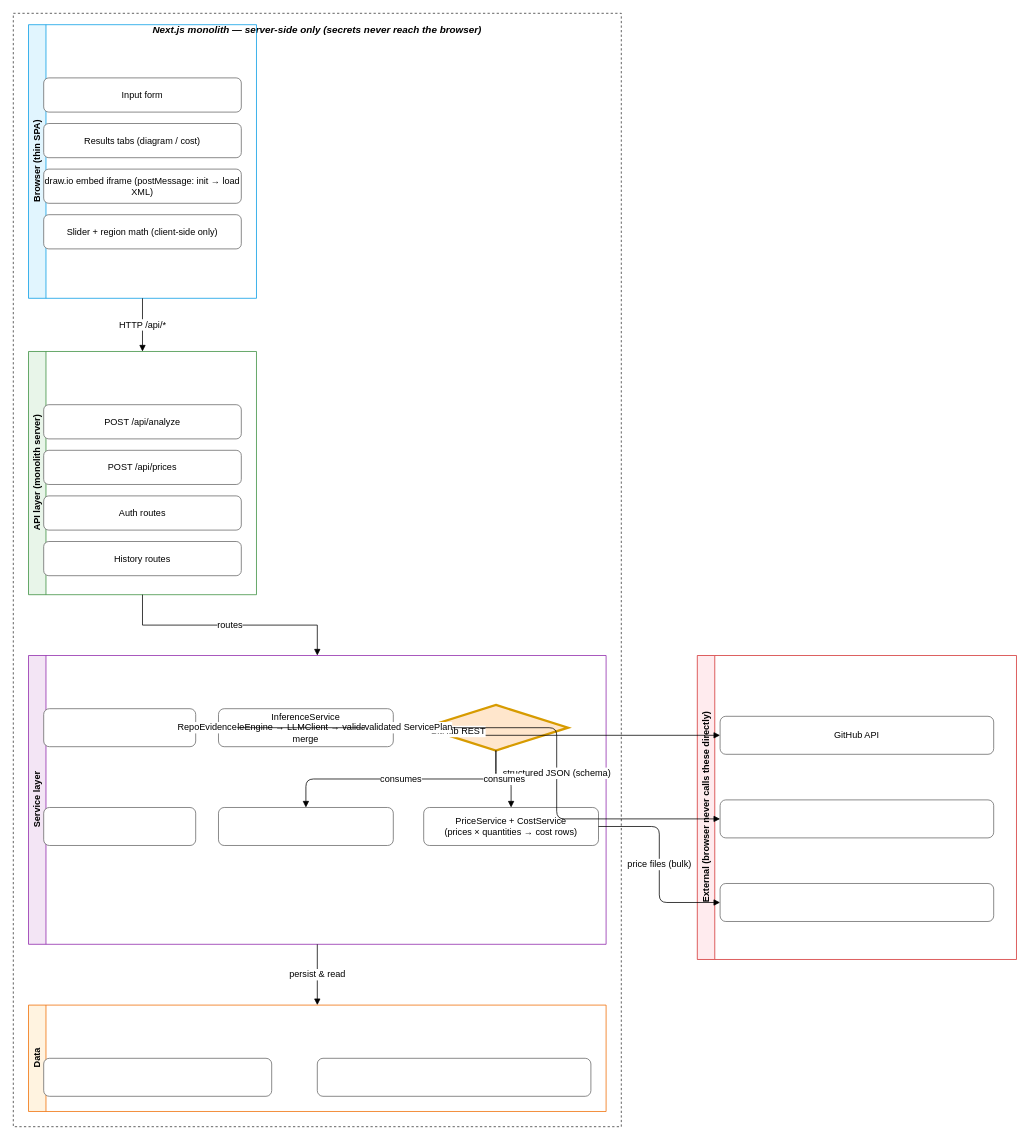
Some shapes in this 1030 by 1140 pixel diagram are drawn without their labels. Here are the shapes that lost their labels. From the top down, the centre of each, then its label:
(119,727): RepoFetcher (GitHub REST, allowlist, per-repo cache)
(495,727): ServicePlan (the one contract — diagram & cost can't diverge)
(119,826): AuthService (sessions, history CRUD)
(305,826): DiagramService → mxGraph XML
(856,818): LLM provider (DeepSeek / Gemini / Groq)
(856,902): AWS pricing CDN (Price List Bulk API)
(157,1077): SQLite — users, analyses
(454,1077): Disk cache — prices, repo evidence
